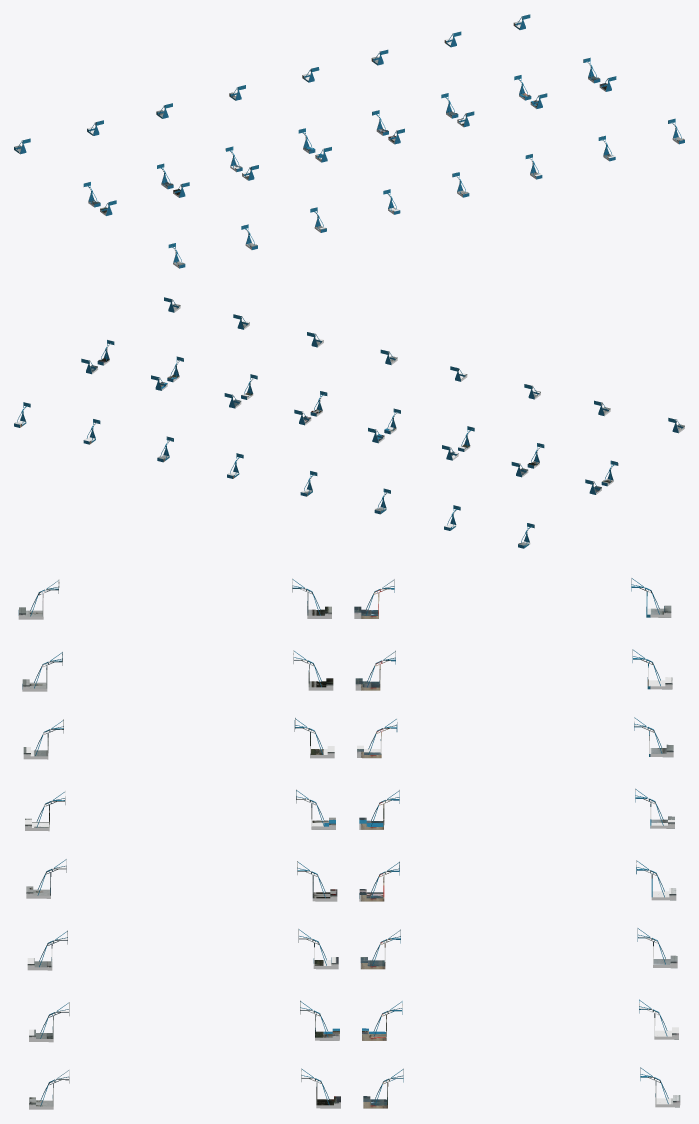
File: lqc.gltf
The picture shows the model from 3 angles, top to bottom: view 1: azimuth 30°, elevation 25°; view 2: azimuth 150°, elevation 25°; view 3: azimuth 270°, elevation 25°; orthographic projection. The views are drawn at different scales.
Visible parts, largest first — view 1: skp5734; view 2: skp5734; view 3: skp5734.
Boxes of the visible parts, x1,y1,x2,y2 form: skp5734: (14,14,684,268); skp5734: (14,297,684,548); skp5734: (18,577,680,1109).
Bounding box in the file's own units: 0.1253 × 0.00403 × 0.0702.
Materials: 1 (1 with a texture image).
